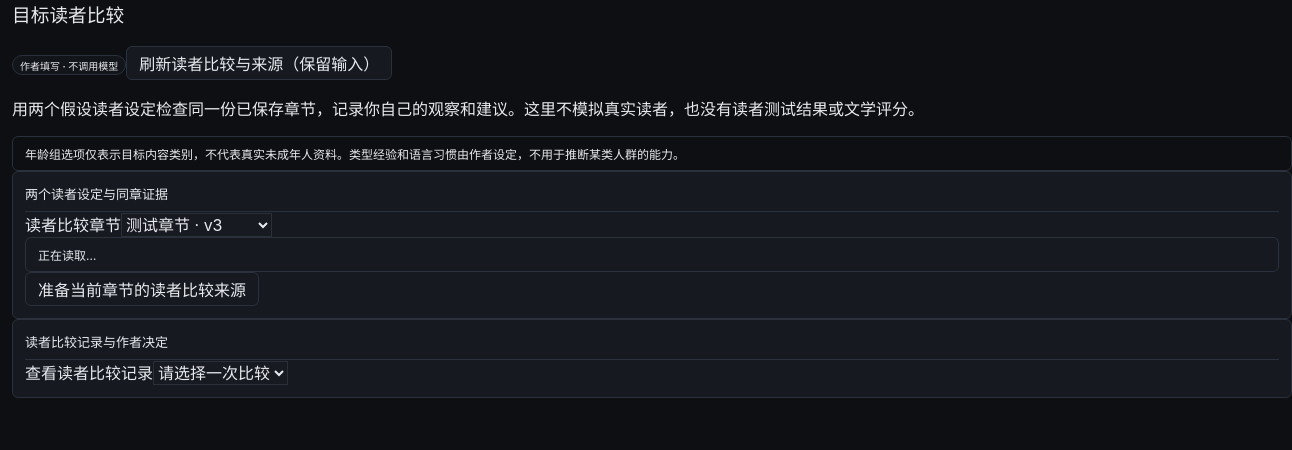
hides old findings when the catalog version disagrees even if stale is false
The width and height of the screenshot is (1292, 450).
Select "比较 1 · r1" in the dropdown labelled "查看读者比较记录" at (220, 373), box [153, 361, 288, 385]
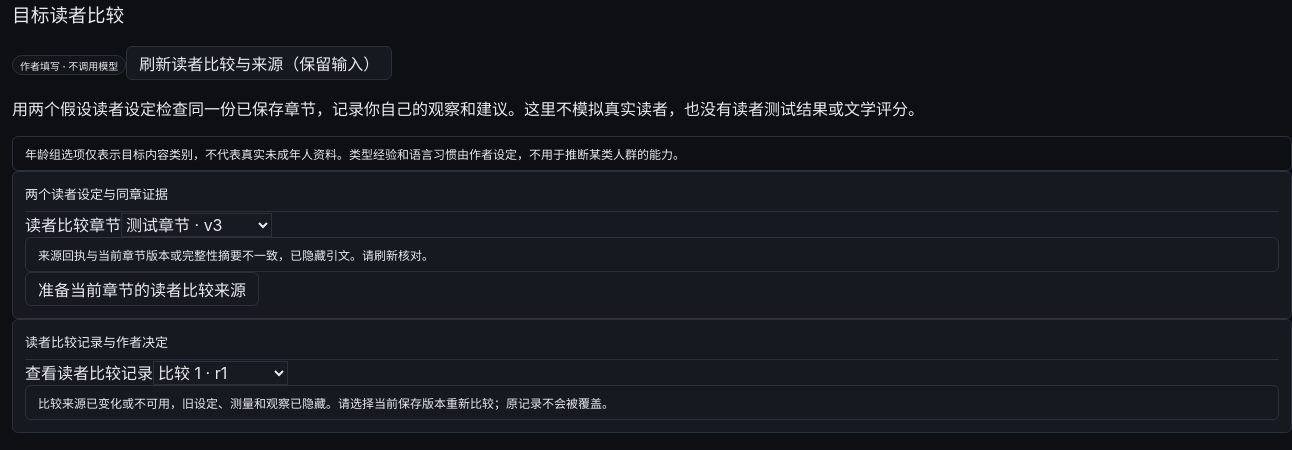
Result: the text "比较来源已变化或不可用，旧设定、测量和观察已隐藏。请选择当前保存版本重新比较；原记录不会被覆盖。" is shown at [25, 385, 1279, 420]
